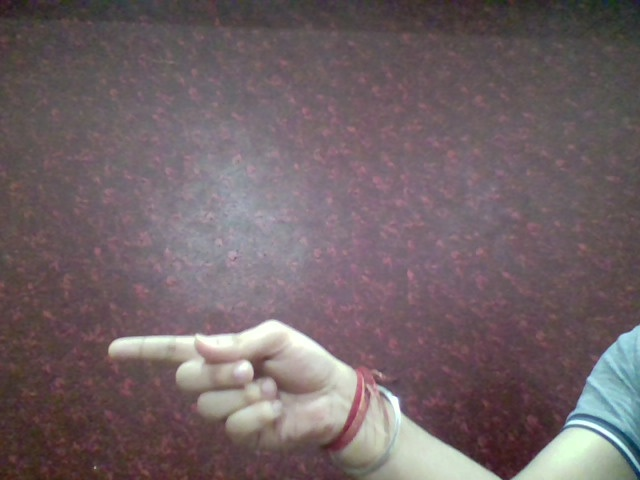g: (104, 304, 365, 471)
